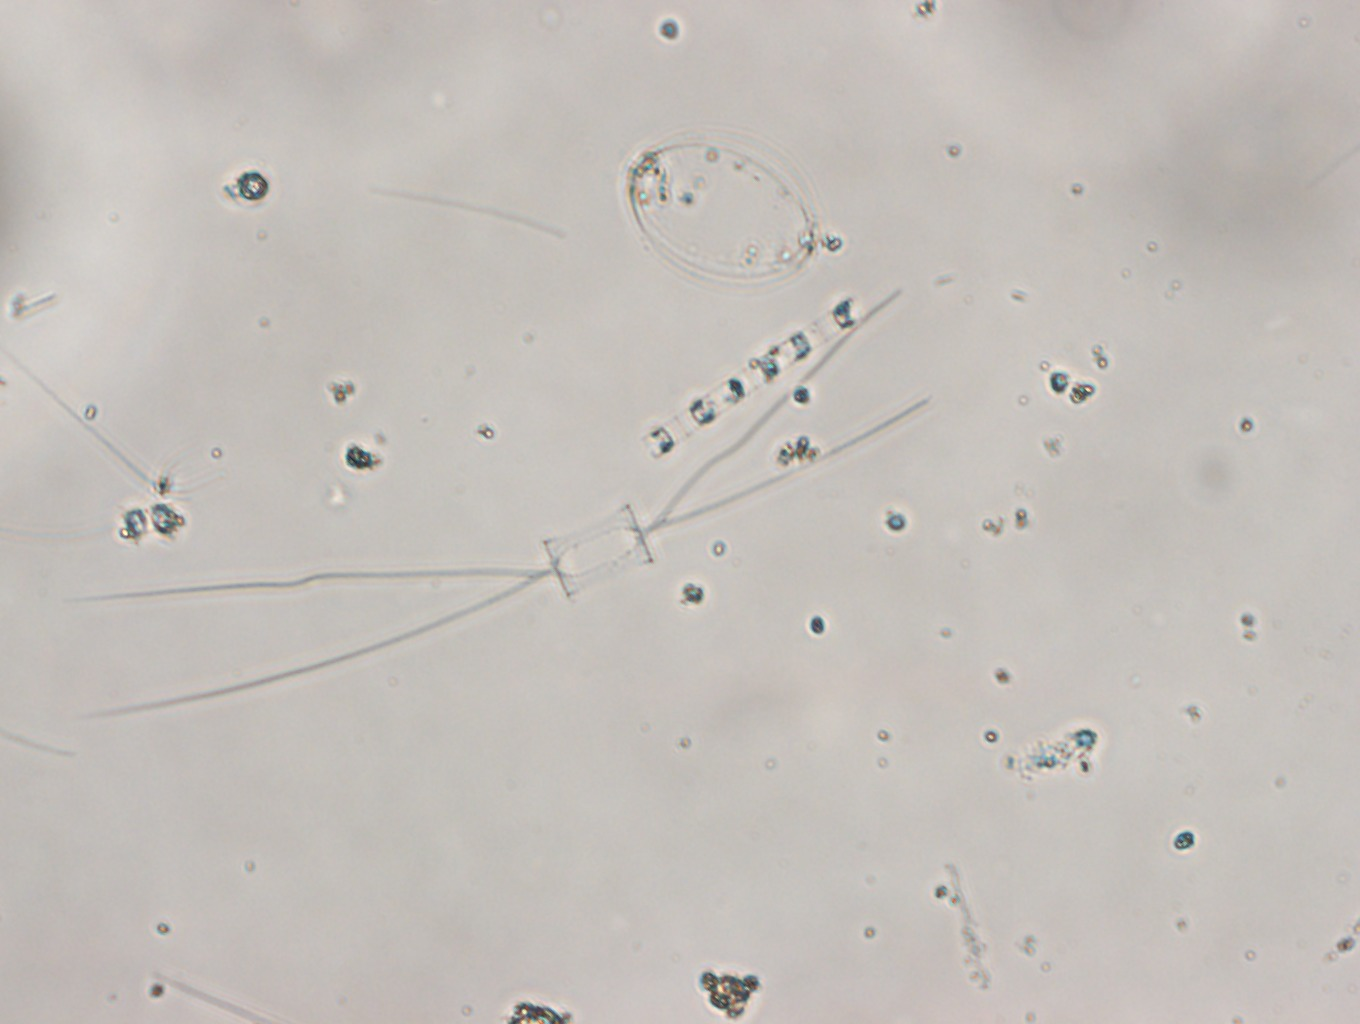chaetoceros: (106, 302, 924, 720)
skeletonema: (638, 291, 882, 469)
